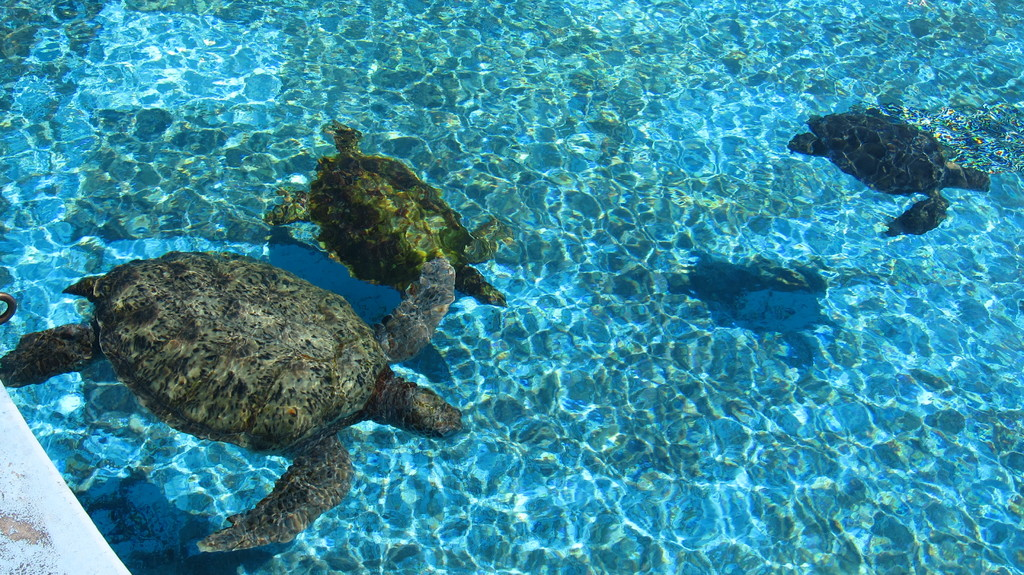Sea turtles: (1, 256, 461, 555), (263, 120, 513, 310), (784, 103, 986, 240)
